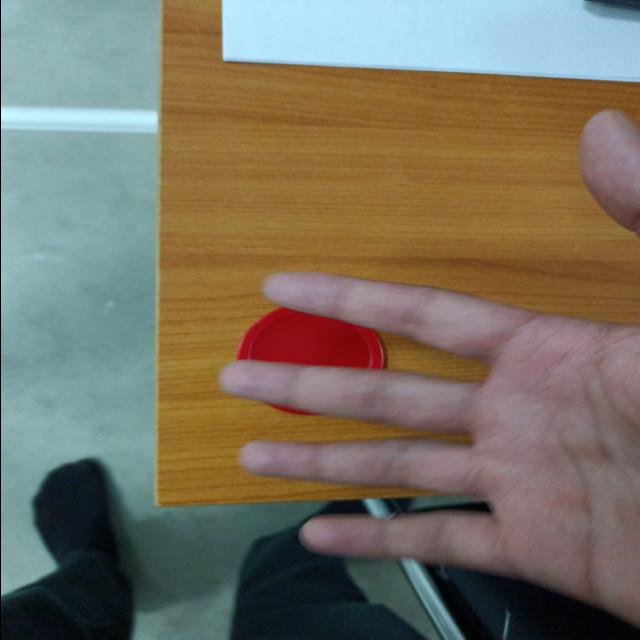chip: (234, 304, 388, 418)
